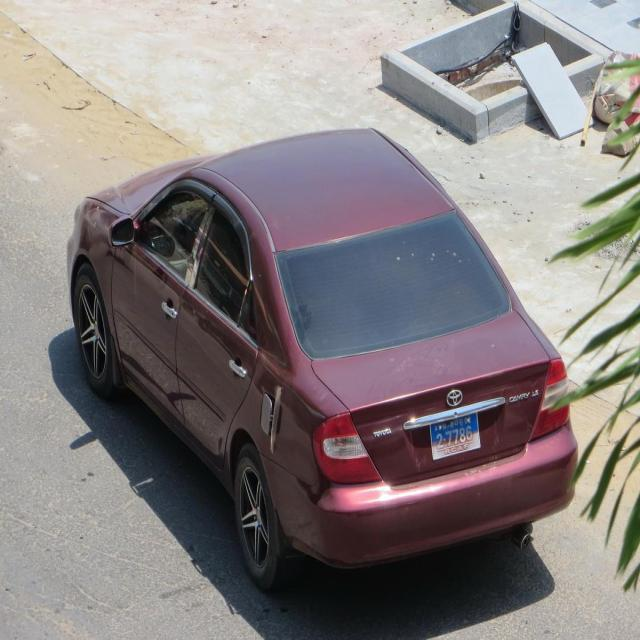RCAF: (434, 417, 464, 432)
